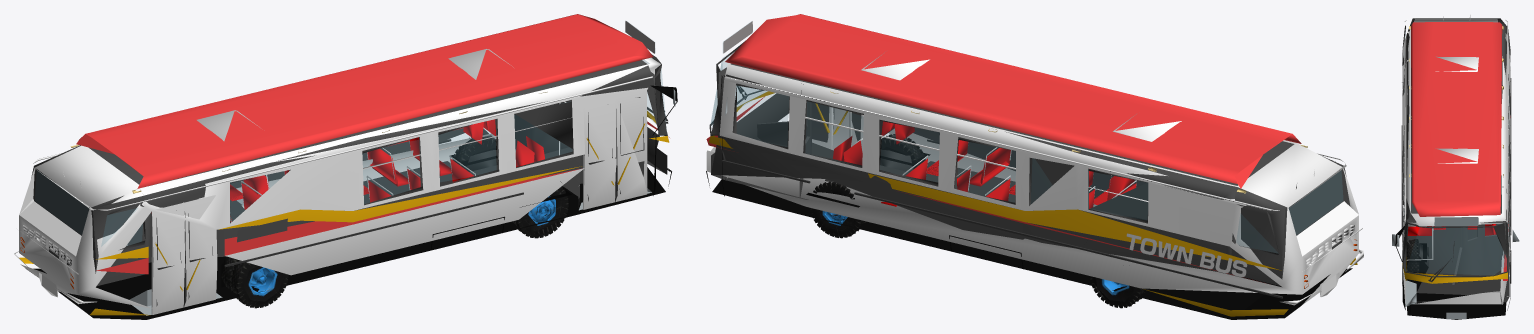
Rendered from xe-buyt.glb.
The picture shows the model from 3 angles, left to right: view 1: azimuth 30°, elevation 25°; view 2: azimuth 150°, elevation 25°; view 3: azimuth 270°, elevation 25°; orthographic projection. The views are drawn at different scales.
Visible parts, largest first — view 1: Object_25, Object_34, Object_27, Object_16, Object_6, Object_22, Object_24, Object_33, Object_12, Object_23, Object_32, Object_10 (+4 smaller); view 2: Object_25, Object_34, Object_27, Object_16, Object_6, Object_33, Object_22, Object_24, Object_23, Object_32, Object_11, Object_2 (+3 smaller); view 3: Object_34, Object_25, Object_16, Object_22, Object_27, Object_6, Object_23, Object_32, Object_33, Object_10, Object_7, Object_24 (+5 smaller).
Boxes of the visible parts, x1,y1,x2,y2 form: Object_25: [19, 49, 668, 314]; Object_34: [76, 14, 669, 274]; Object_27: [31, 60, 657, 306]; Object_16: [35, 60, 665, 246]; Object_6: [25, 155, 665, 319]; Object_22: [108, 97, 667, 269]; Object_24: [230, 119, 544, 221]; Object_33: [19, 110, 669, 315]; Object_12: [229, 260, 288, 308]; Object_23: [183, 54, 667, 307]; Object_32: [14, 76, 652, 304]; Object_10: [513, 186, 568, 238]; Object_25: [706, 52, 1358, 304]; Object_34: [706, 14, 1301, 283]; Object_27: [711, 63, 1353, 285]; Object_16: [710, 54, 1342, 252]; Object_6: [712, 152, 1352, 319]; Object_33: [709, 91, 1357, 316]; Object_22: [711, 84, 1335, 276]; Object_24: [833, 121, 1136, 208]; Object_23: [709, 40, 1282, 298]; Object_32: [725, 76, 1363, 305]; Object_11: [810, 181, 866, 238]; Object_2: [1126, 233, 1247, 277]; Object_34: [1411, 22, 1510, 280]; Object_25: [1402, 18, 1510, 304]; Object_16: [1405, 33, 1509, 274]; Object_22: [1402, 25, 1510, 302]; Object_27: [1403, 18, 1509, 293]; Object_6: [1402, 243, 1506, 319]; Object_23: [1401, 60, 1511, 285]; Object_32: [1402, 17, 1508, 220]; Object_33: [1402, 263, 1507, 283]; Object_10: [1406, 238, 1419, 273]; Object_7: [1395, 226, 1510, 312]; Object_24: [1407, 224, 1496, 235].
Bounding box in the file's own units: 1 × 0.2468 × 0.2437.
Materials: 16 (2 with a texture image).
